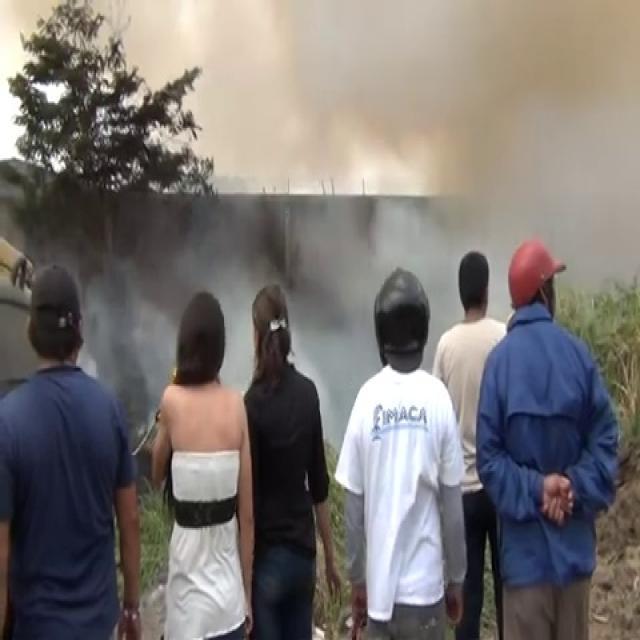Smoke: (13, 0, 640, 324)
